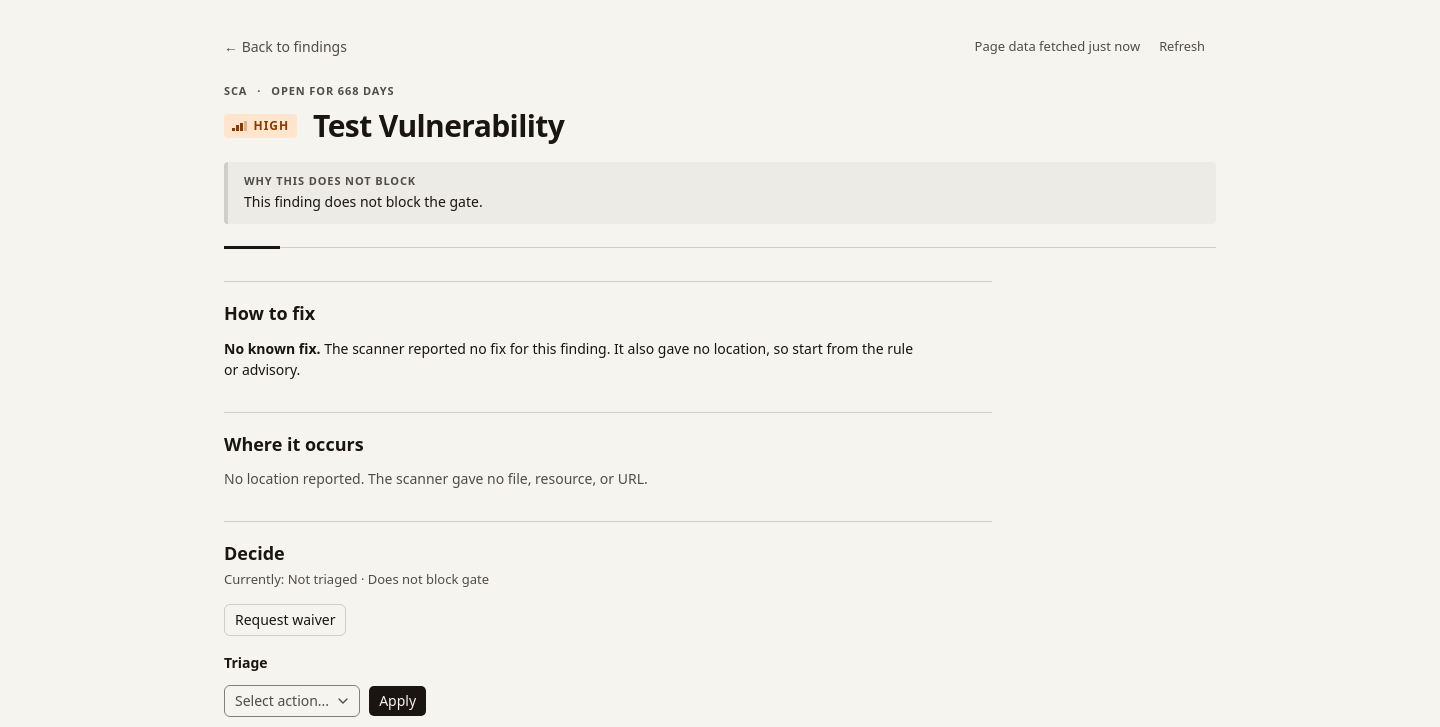
Test case: FindingDetail triage validation › refuses to overwrite a decision made since the page loaded and shows the newer one
This screenshot has width=1440, height=727.
Expected: the heading "Test Vulnerability" is shown, x1=313 y1=109 x2=564 y2=142
Click the dropdown. click: [292, 701]
box: x1=224 y1=685 x2=360 y2=717
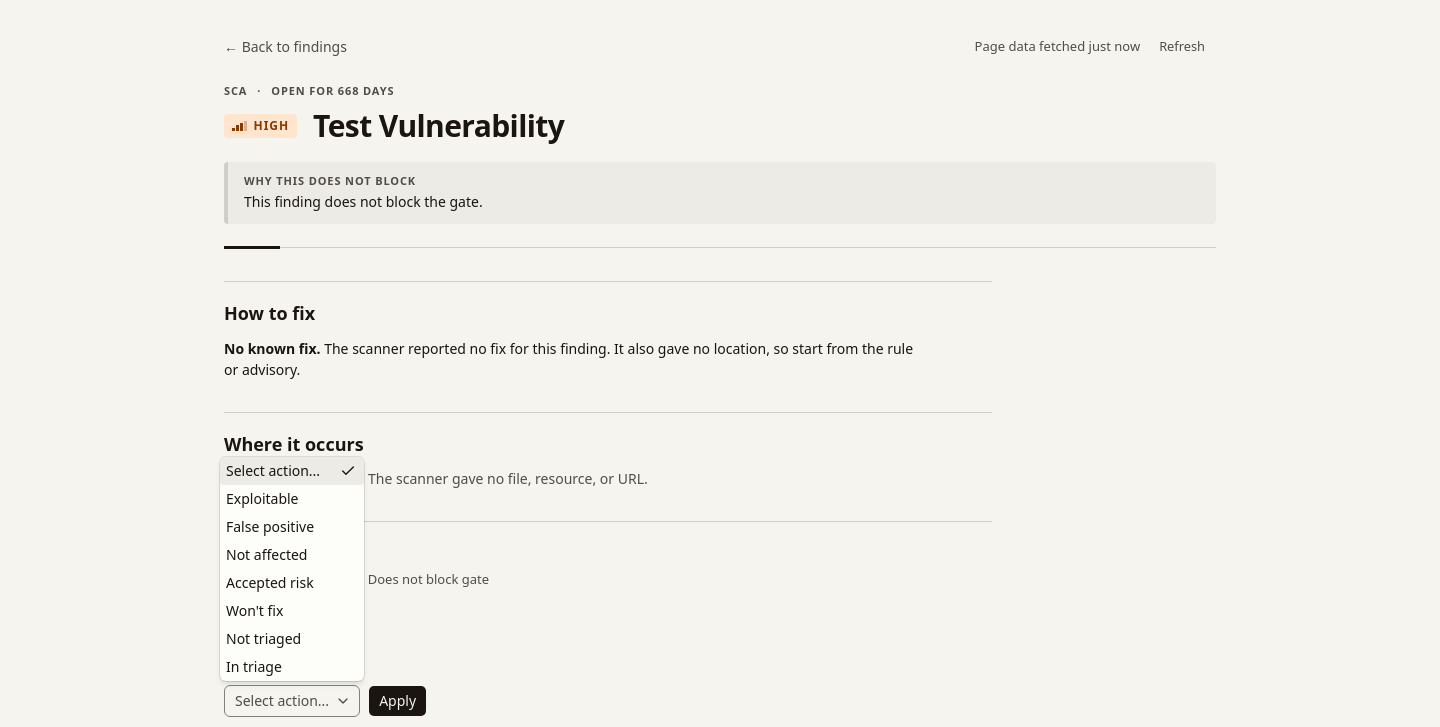
Click the option "False positive". click: [270, 526]
box: x1=226 y1=517 x2=314 y2=536
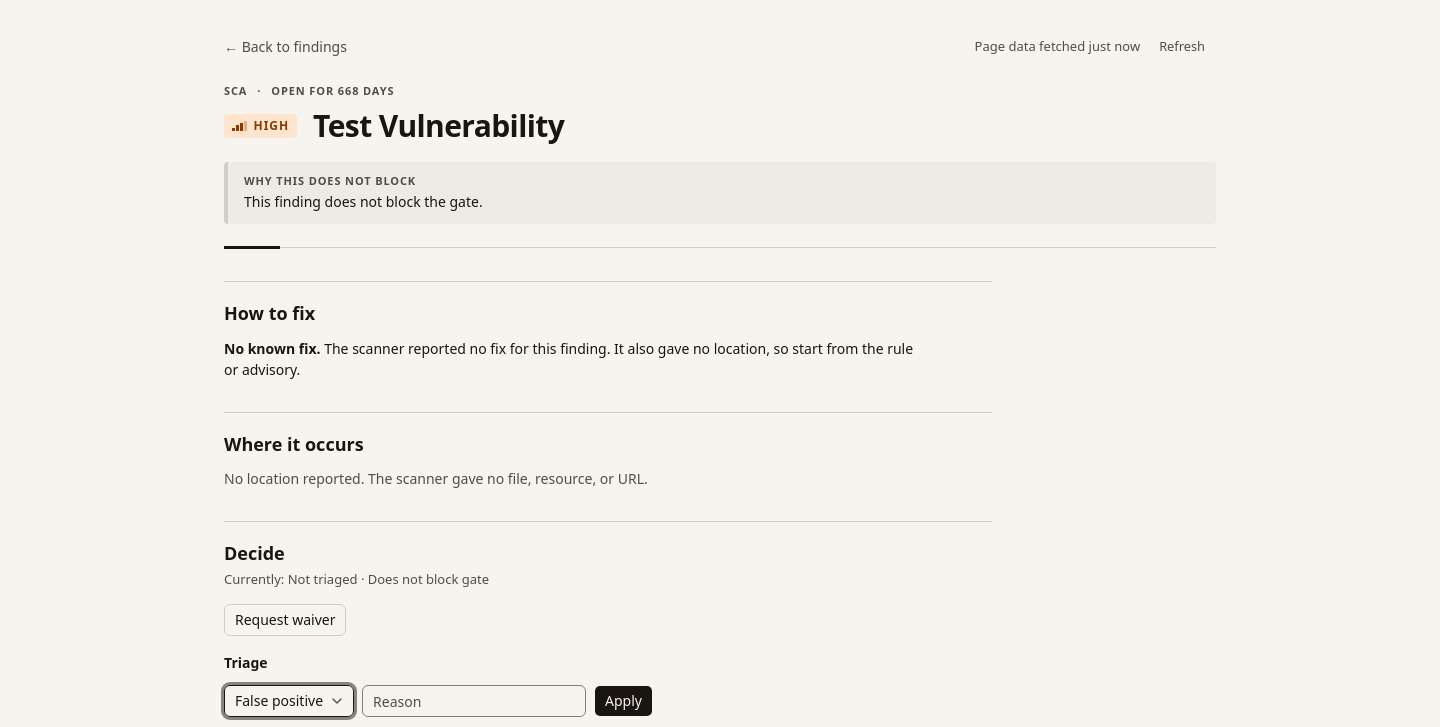
Type "not reachable" into the field with placeholder "Reason". click: [474, 701]
box: x1=362 y1=685 x2=586 y2=717
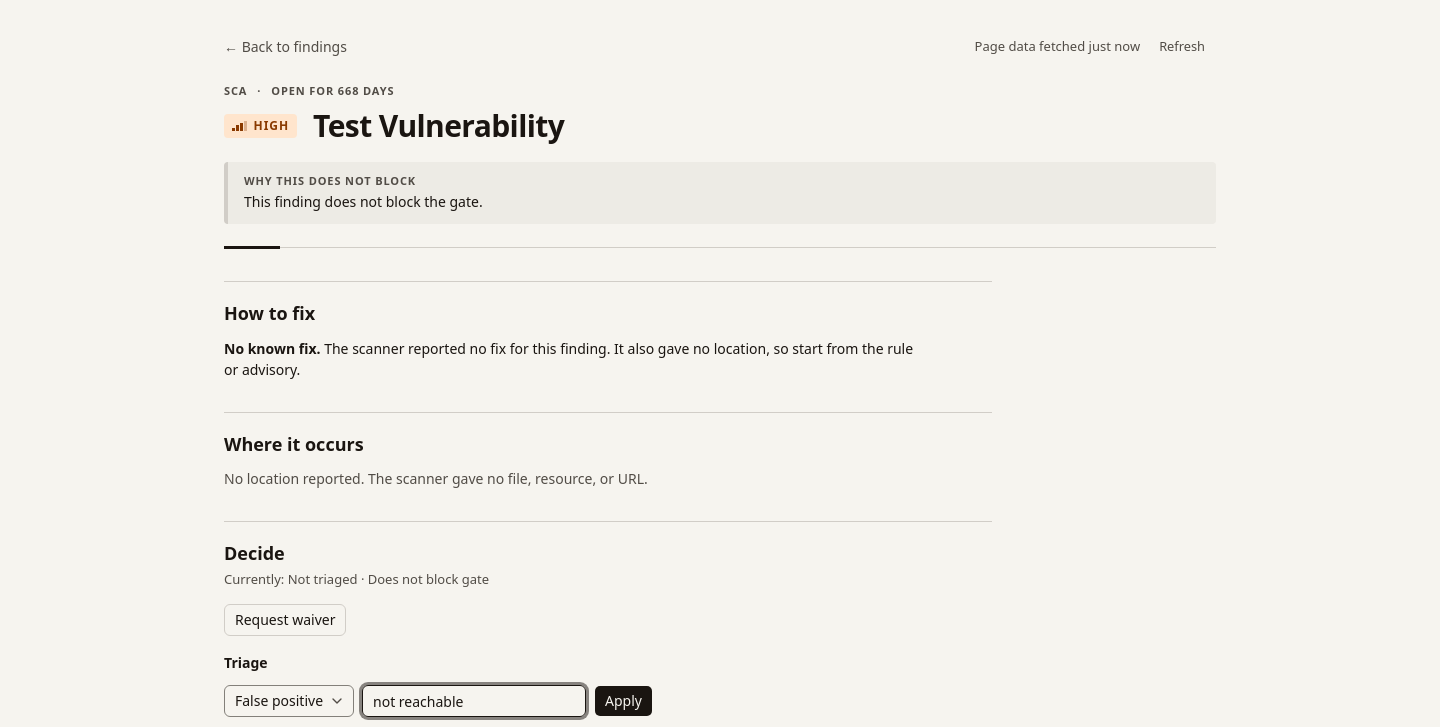
Click the button "Apply". click: [623, 701]
box: x1=594 y1=685 x2=653 y2=717
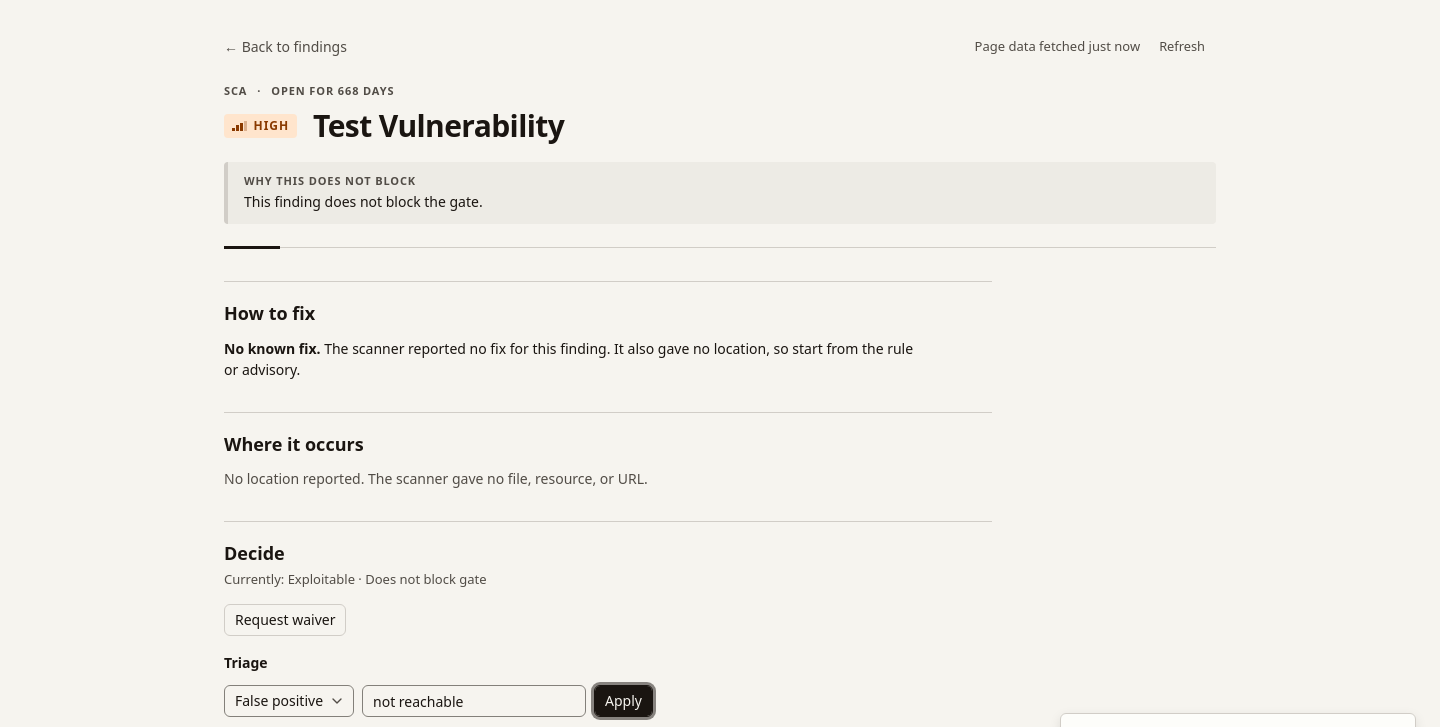
Expected: the text "Currently: Exploitable · Does not block gate" is shown, x1=224 y1=570 x2=487 y2=588
